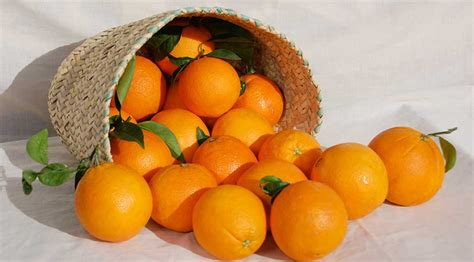orange: (270, 178, 352, 259), (368, 126, 448, 207), (74, 161, 153, 242), (313, 141, 390, 221), (192, 183, 269, 258), (150, 162, 220, 235), (176, 54, 244, 116), (190, 133, 257, 185), (257, 129, 322, 174)
